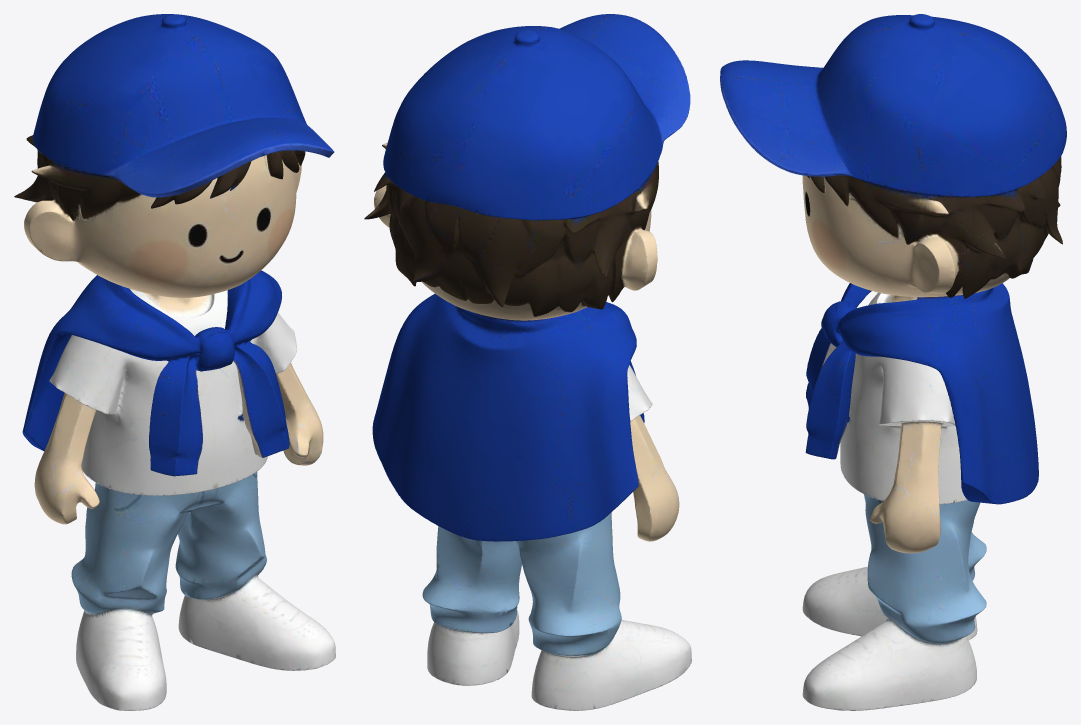
The model's file is blue-cap-buddy.glb.
The picture shows the model from 3 angles, left to right: view 1: azimuth 30°, elevation 25°; view 2: azimuth 150°, elevation 25°; view 3: azimuth 270°, elevation 25°; orthographic projection.
Size of the model in its own units: 0.8634 by 1.9 by 0.9339.
Materials: 1 (1 with a texture image).
